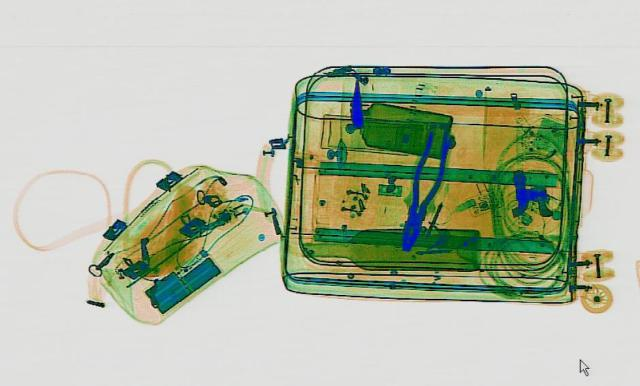Pliers: (390, 126, 456, 250)
